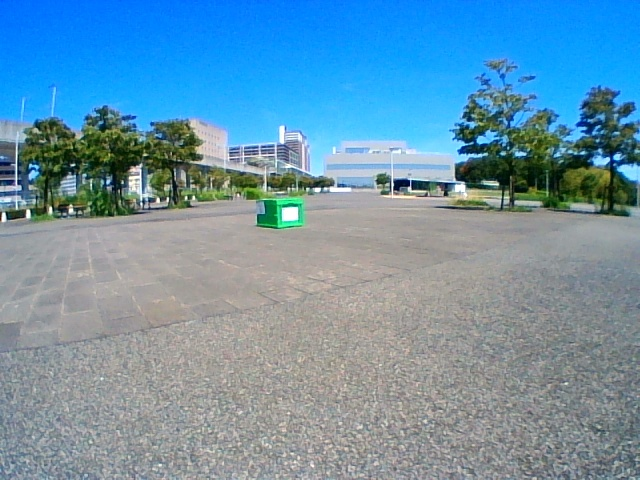green_box: (256, 197, 303, 227)
tag: (256, 201, 265, 214)
